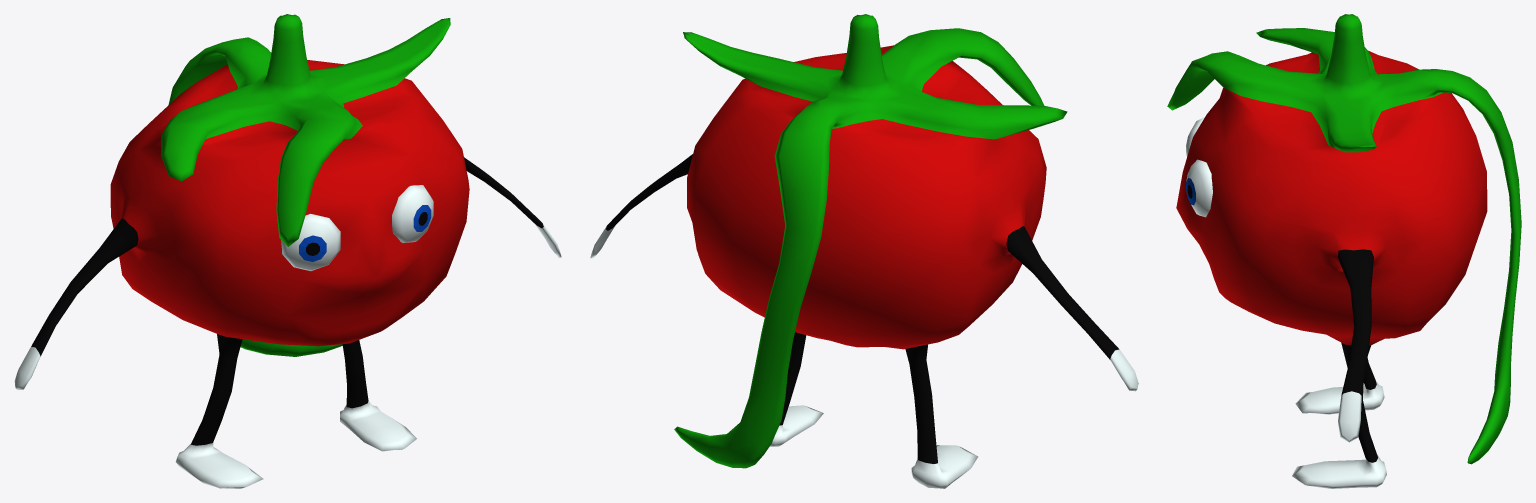
File: Tomate.FBX
3 renders of one model, left to right at view 1: azimuth 30°, elevation 25°; view 2: azimuth 150°, elevation 25°; view 3: azimuth 270°, elevation 25°, orthographic. The views are drawn at different scales.
Parts seen in each view (by area): view 1: Boîte001, Objet001, Objet003; view 2: Boîte001; view 3: Boîte001, Objet003.
Part boxes in pixels (x1,y1,x2,y2): Boîte001: (14, 14, 561, 488); Objet001: (281, 213, 340, 270); Objet003: (392, 185, 433, 242); Boîte001: (590, 14, 1138, 488); Boîte001: (1167, 14, 1521, 488); Objet003: (1186, 159, 1212, 217).
Size of the model in its own units: 62.54 by 48.33 by 36.38.
